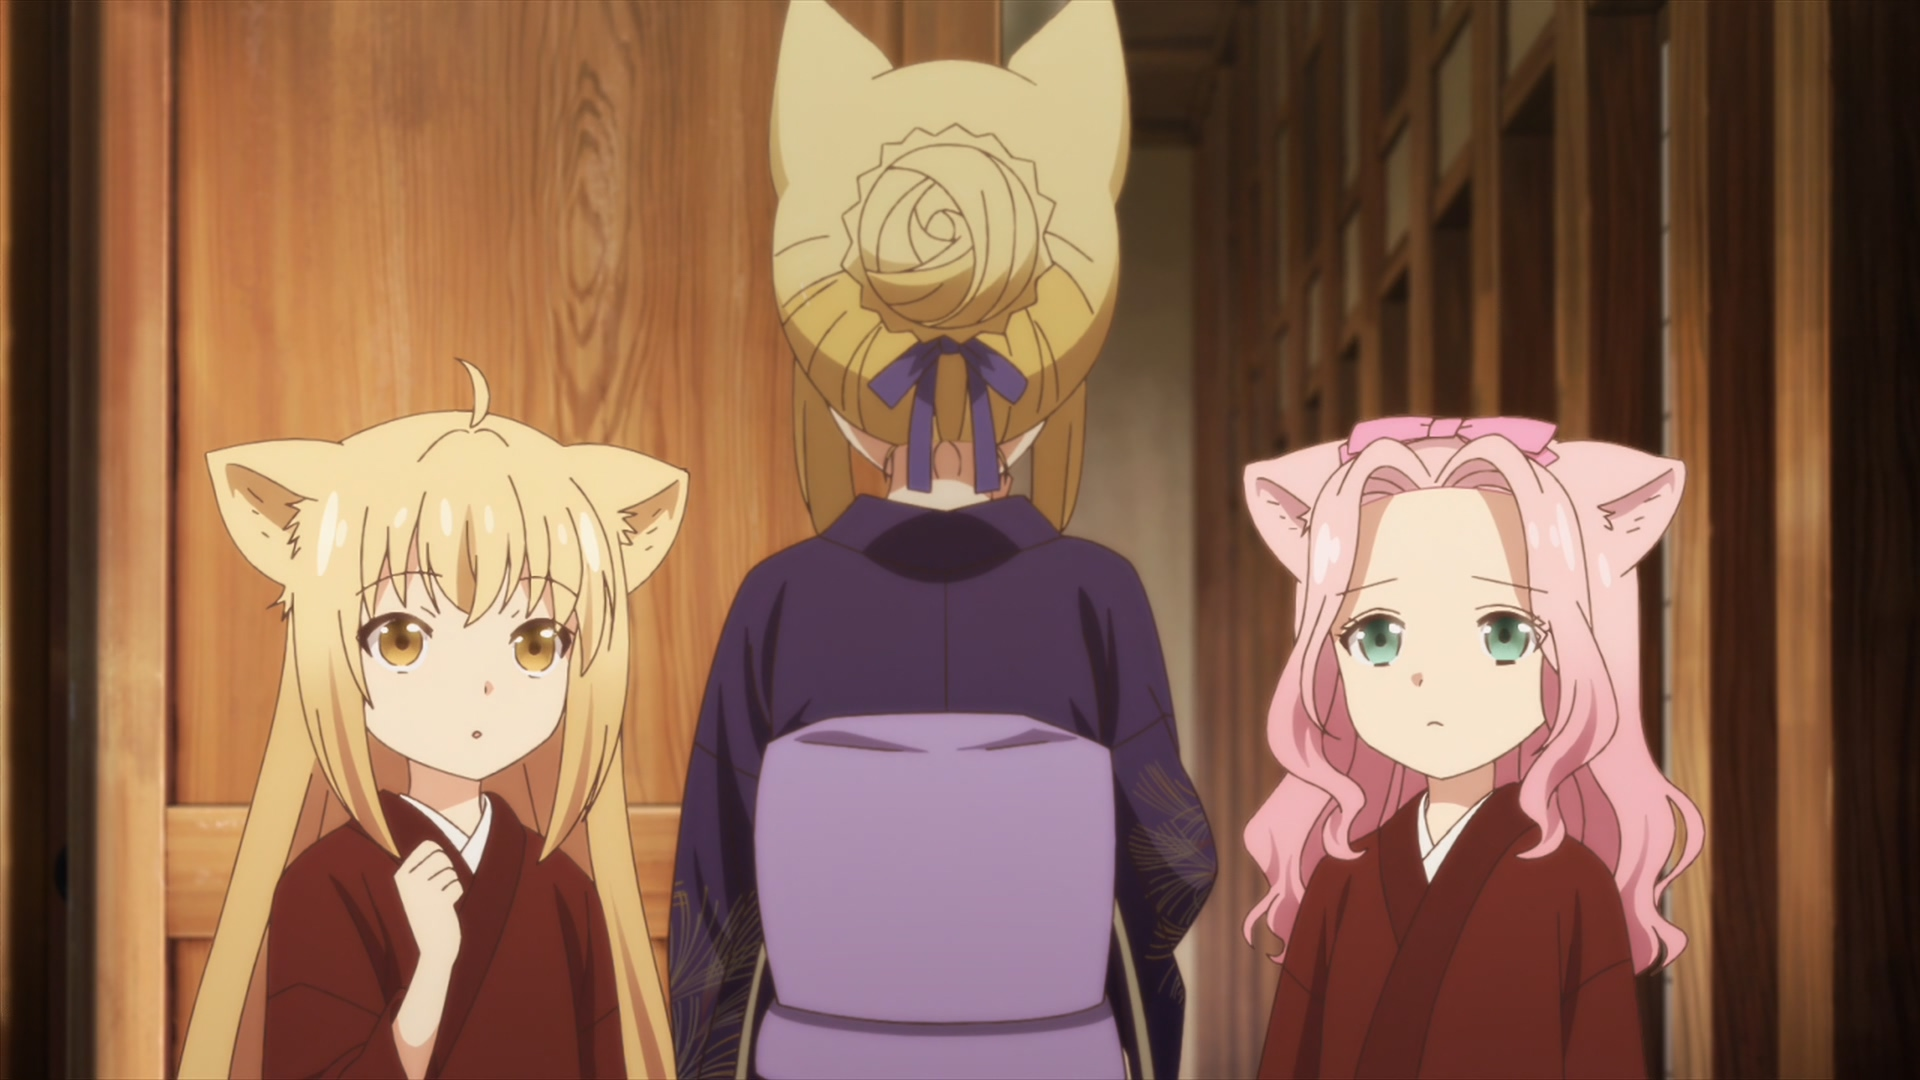柚: (174, 357, 687, 1080)
桐: (670, 1, 1218, 1080)
莲: (1240, 417, 1706, 1080)
